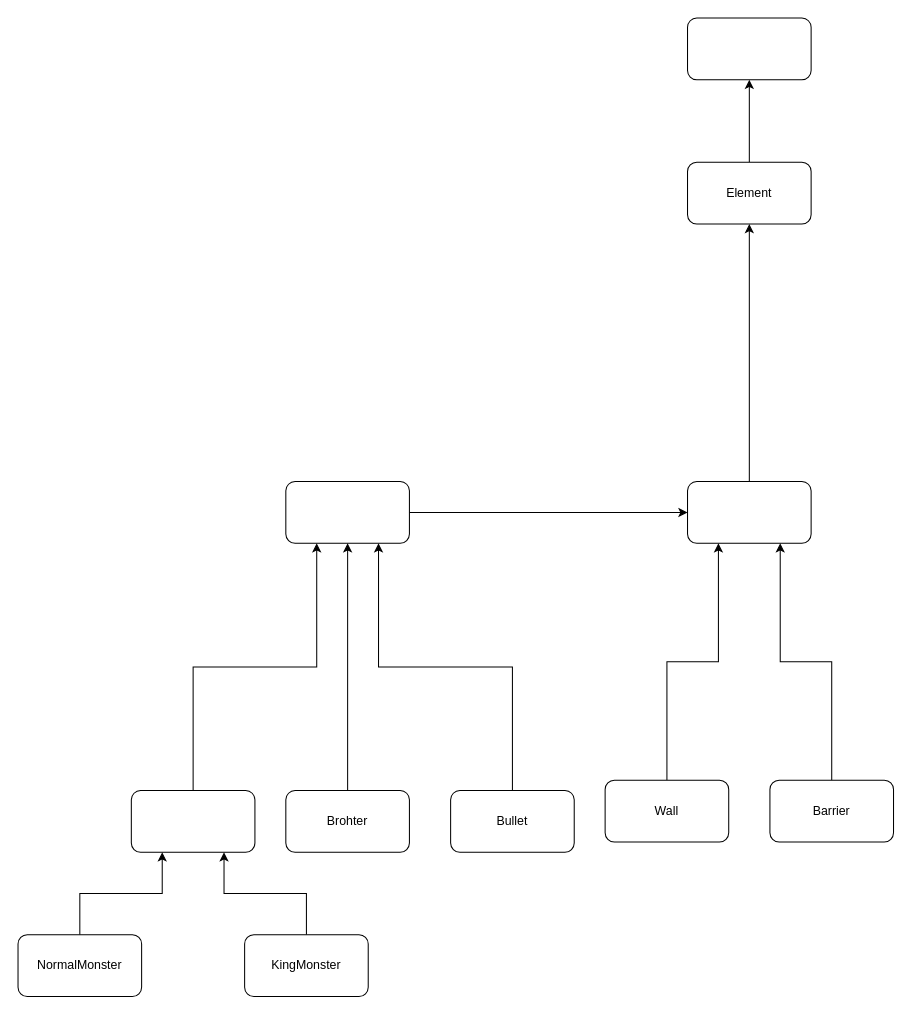
Some shapes in this 912 by 1015 pixel diagram are drawn without their labels. The centre of each missing label's shape, as x and y in pixels:
ActiveElement: pixel 347 511
Monster: pixel 192 820
PassiveElement: pixel 748 511
Thread: pixel 748 48
